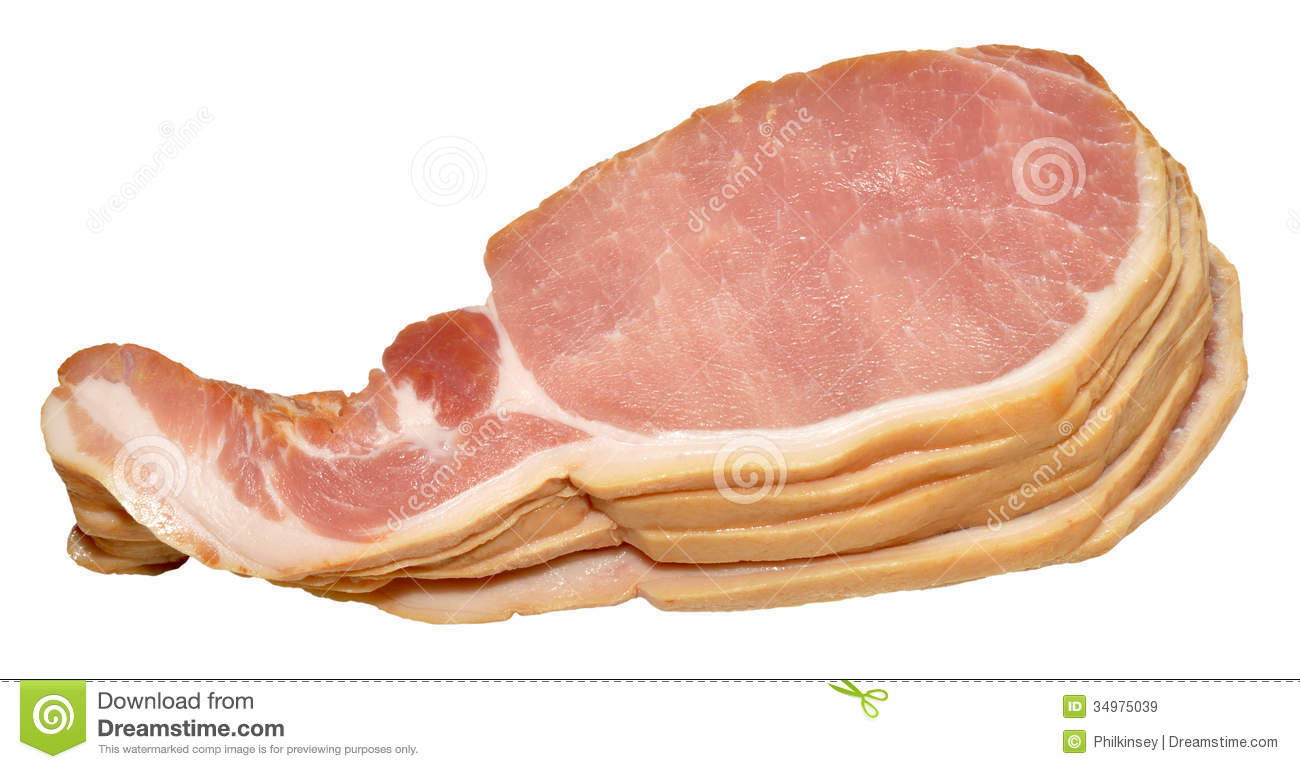bacon: (65, 50, 1241, 622)
